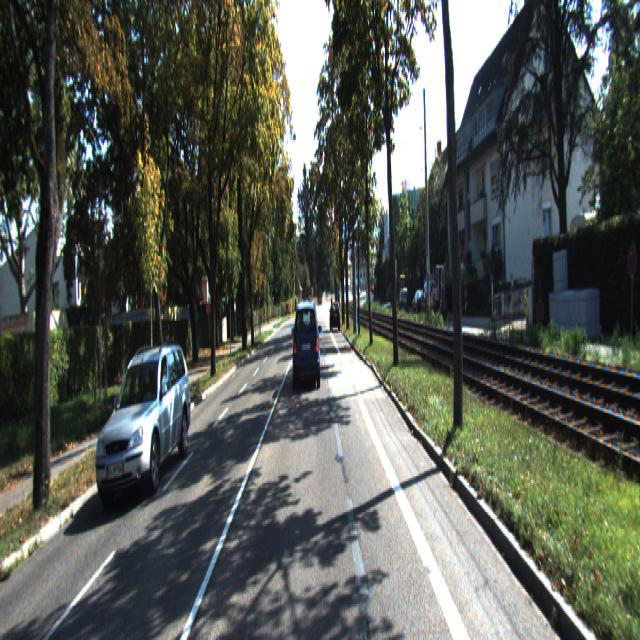Car: (95, 338, 194, 505), (293, 300, 322, 392), (432, 266, 446, 319), (421, 281, 438, 318), (330, 301, 341, 332)
